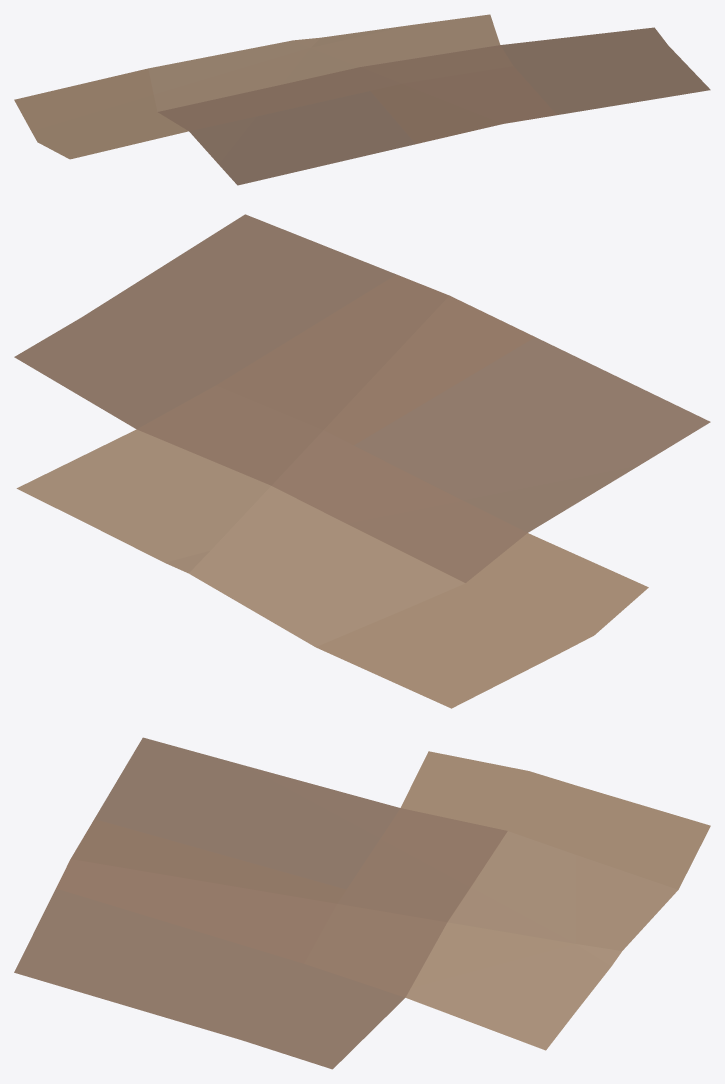
The model's file is farm_-35_-44_soil.glb.
3 views of the same model, one above another, from view 1: azimuth 30°, elevation 25°; view 2: azimuth 150°, elevation 25°; view 3: azimuth 270°, elevation 25° (orthographic). The views are drawn at different scales.
Visible parts, largest first — view 1: geometry_0; view 2: geometry_0; view 3: geometry_0.
Part boxes in pixels (x1,y1,x2,y2): geometry_0: [14, 14, 710, 185]; geometry_0: [14, 214, 710, 708]; geometry_0: [14, 737, 710, 1069].
Size of the model in its own units: 105 by 18.14 by 88.44.
